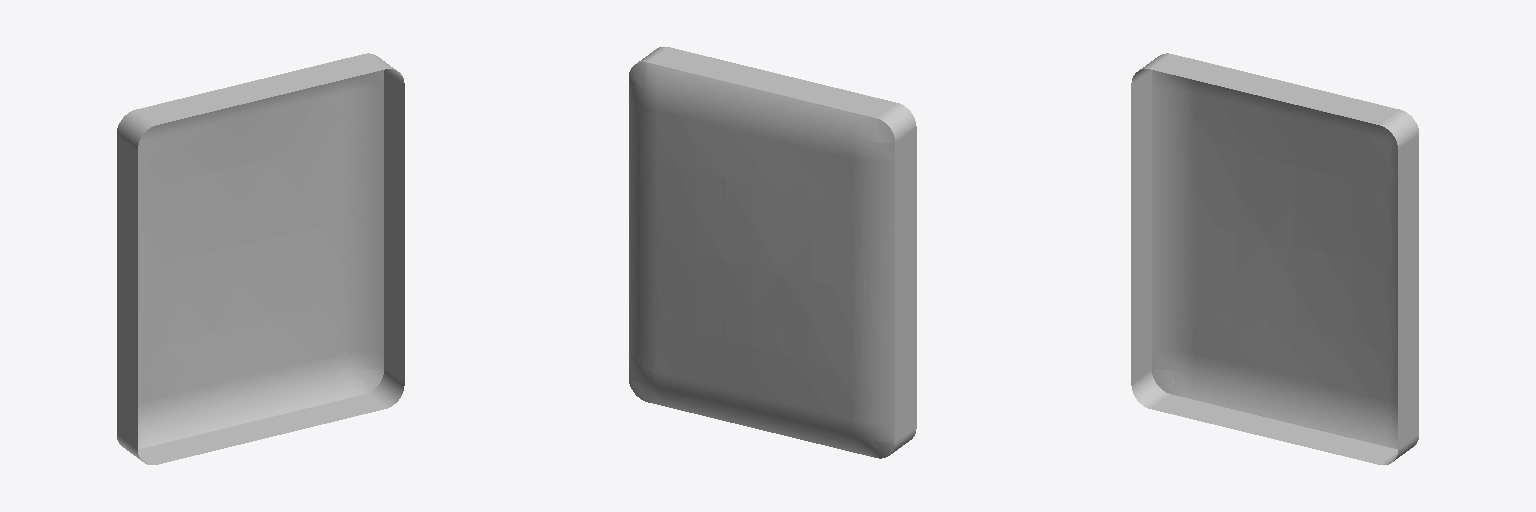
Rendered from gsmini_elastomer_transformed_both_sides.obj.
3 renders of one model, left to right at view 1: azimuth 30°, elevation 25°; view 2: azimuth 150°, elevation 25°; view 3: azimuth 330°, elevation 25°, orthographic.
Bounding box in the file's own units: 0.0208 × 0.0252 × 0.0041.